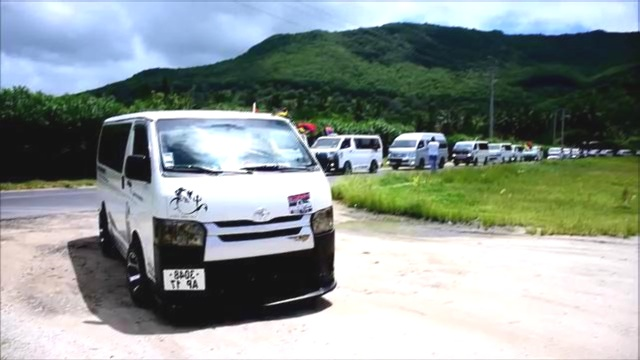van: (96, 110, 334, 324)
